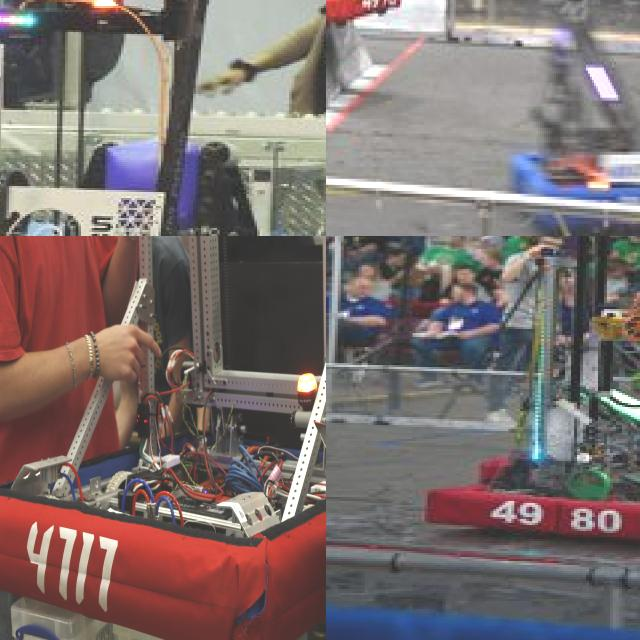FRC-Robots: (0, 236, 326, 640), (0, 0, 326, 236), (526, 236, 640, 543), (505, 47, 640, 236)
